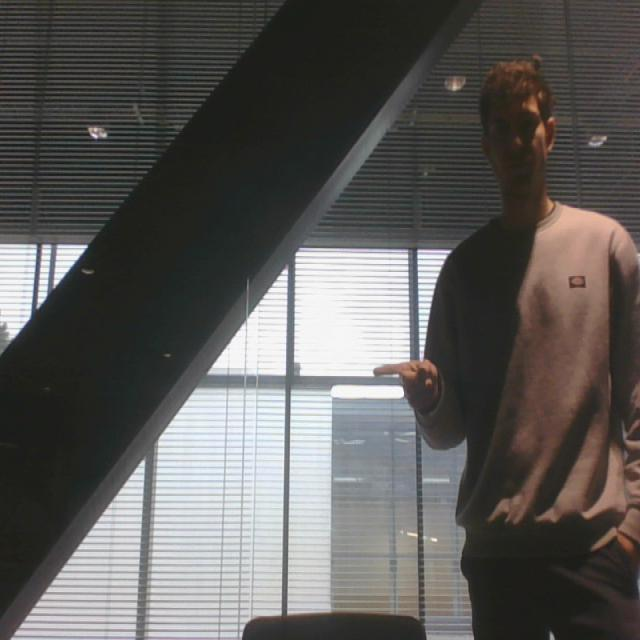left: (371, 353, 443, 413)
